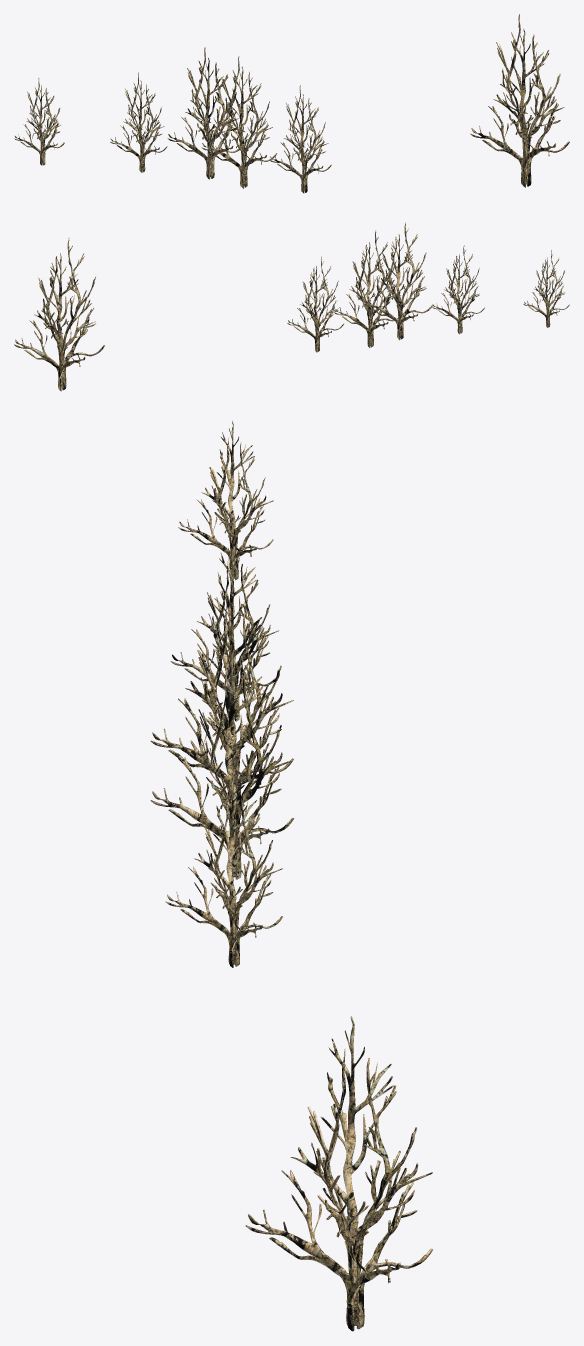
Rendered from NormalTrees.obj.
3 renders of one model, top to bottom at view 1: azimuth 30°, elevation 25°; view 2: azimuth 150°, elevation 25°; view 3: azimuth 270°, elevation 25°, orthographic. The views are drawn at different scales.
Parts seen in each view (by area): view 1: Dead_Tree.001; view 2: Dead_Tree.001; view 3: Dead_Tree.001.
Boxes of the visible parts, left/top/right/bottom form: Dead_Tree.001: left=14, top=14, right=569, bottom=193; Dead_Tree.001: left=14, top=222, right=569, bottom=391; Dead_Tree.001: left=150, top=421, right=433, bottom=1331.
Size of the model in its own units: 0.7402 by 0.3163 by 0.1767.
